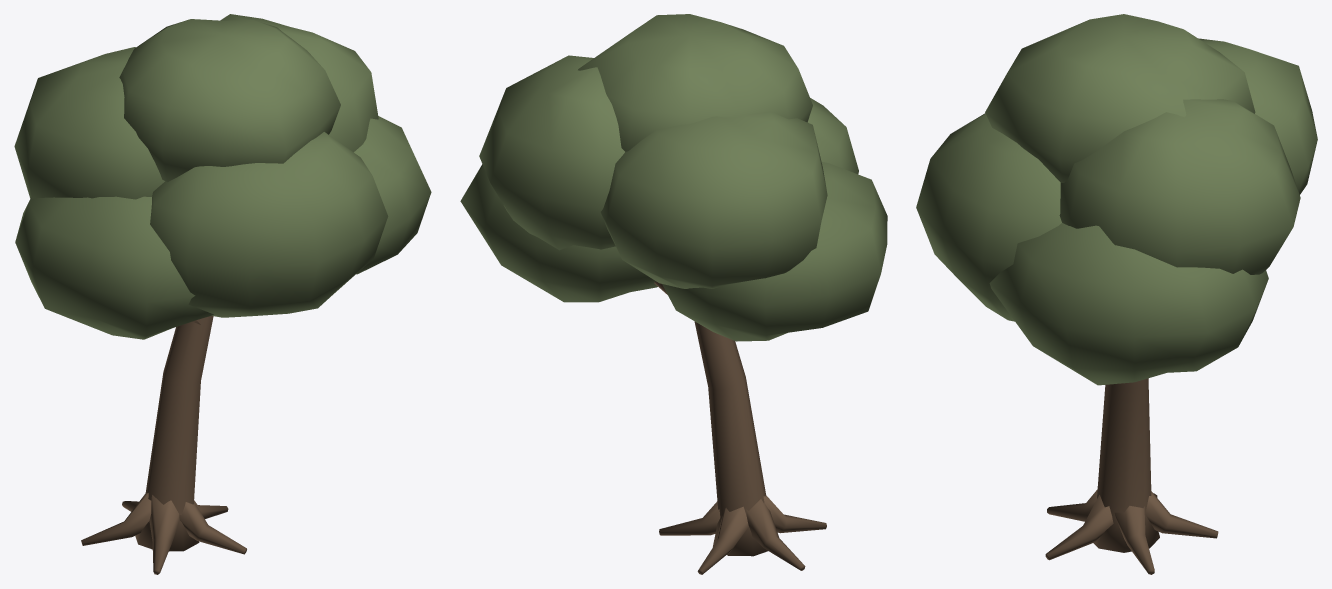
Rendered from tree-02-windswept.glb.
3 renders of one model, left to right at view 1: azimuth 30°, elevation 25°; view 2: azimuth 150°, elevation 25°; view 3: azimuth 270°, elevation 25°, orthographic. The views are drawn at different scales.
Parts seen in each view (by area): view 1: tree-02-windswept; view 2: tree-02-windswept; view 3: tree-02-windswept.
Part boxes in pixels (box(x1,y1,x2,y2)): tree-02-windswept: box(14, 14, 431, 574); tree-02-windswept: box(460, 14, 887, 574); tree-02-windswept: box(916, 14, 1317, 574).
Size of the model in its own units: 4.54 by 5.5 by 3.78.
